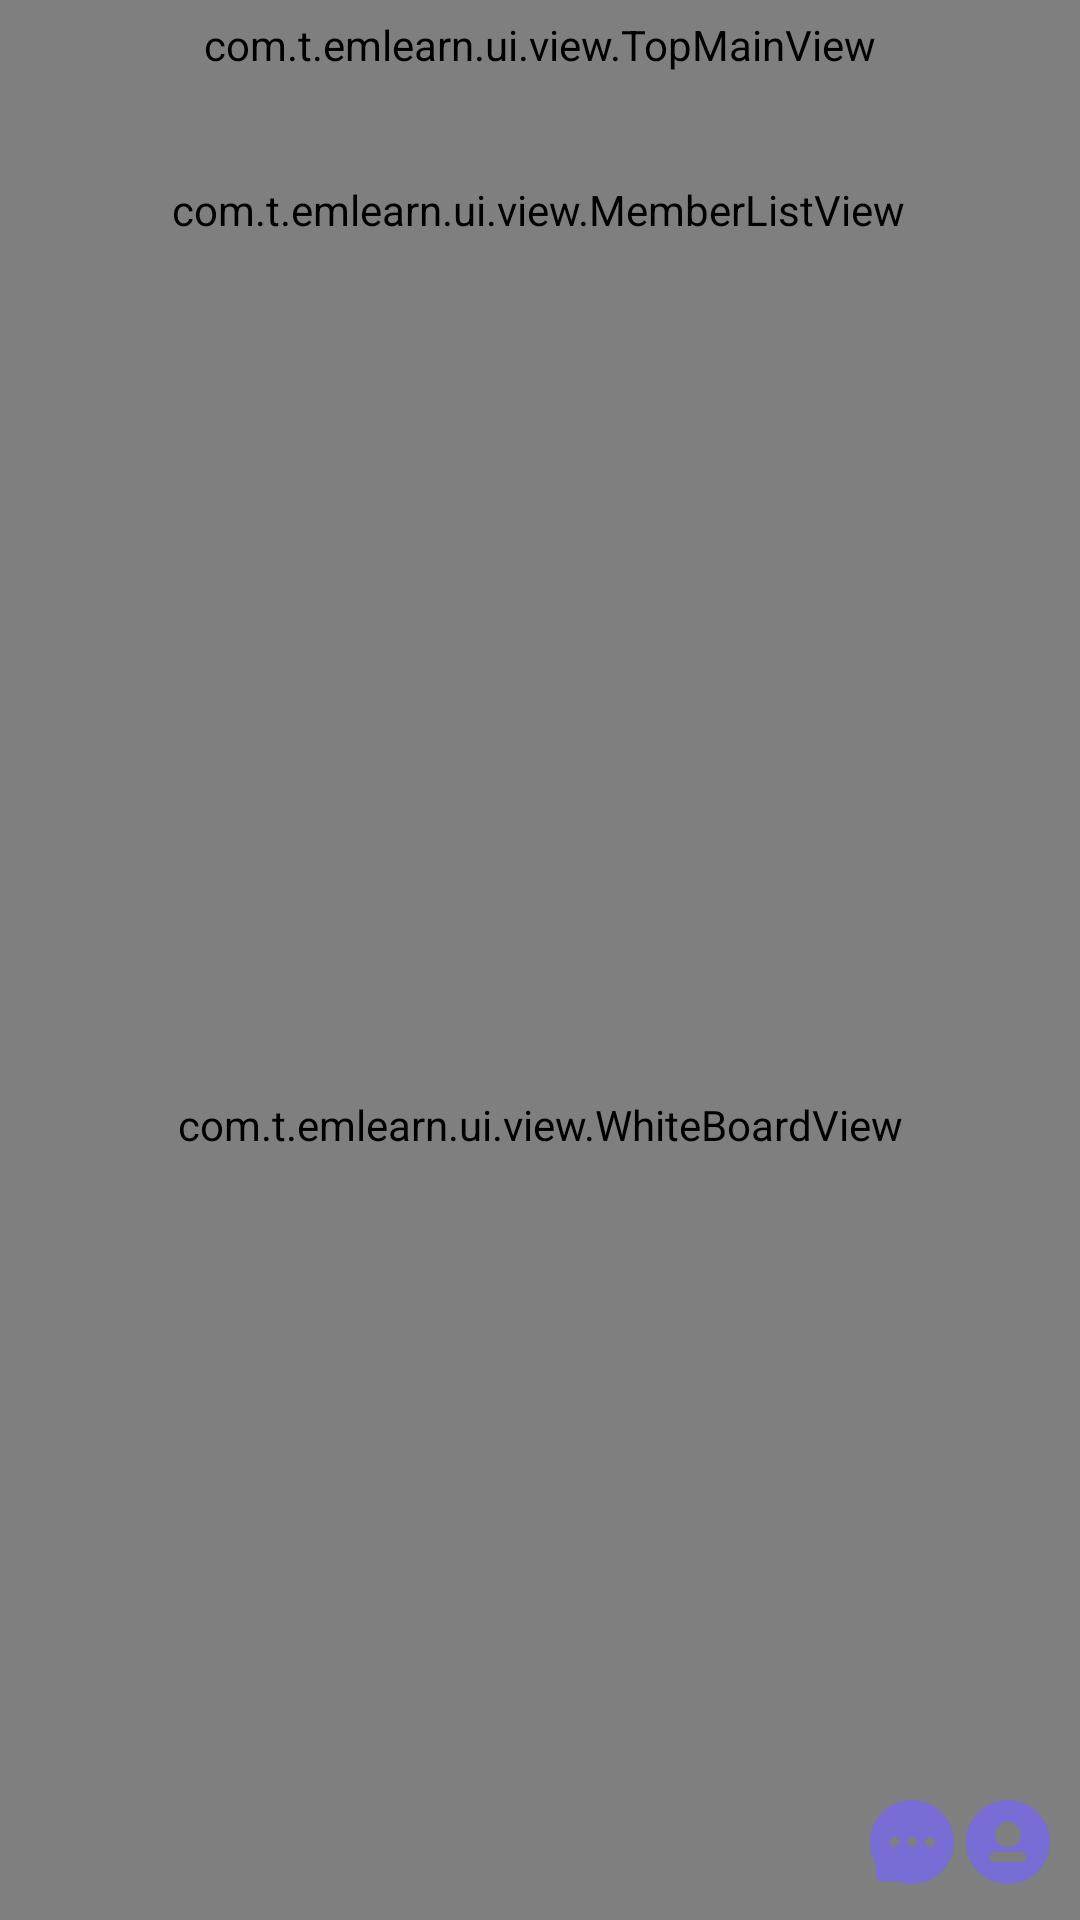

Screen size 1080*1920. Icon name, then its box in pixels as (x1, y1, x2, y2):
chat: (870, 1800, 954, 1884)
